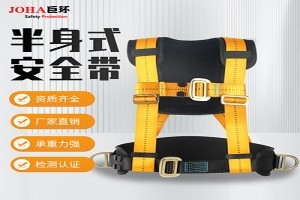safety belt: (117, 37, 282, 180)
